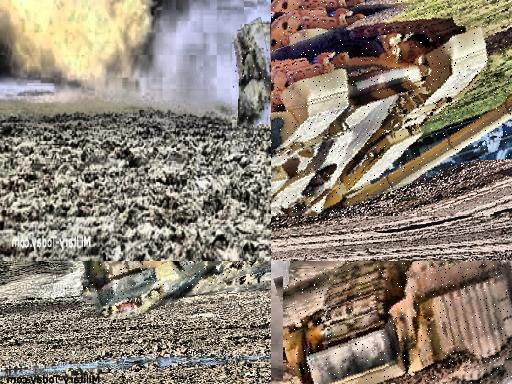tanks: (272, 17, 512, 216), (285, 262, 512, 384), (87, 262, 256, 319), (234, 32, 270, 129)
